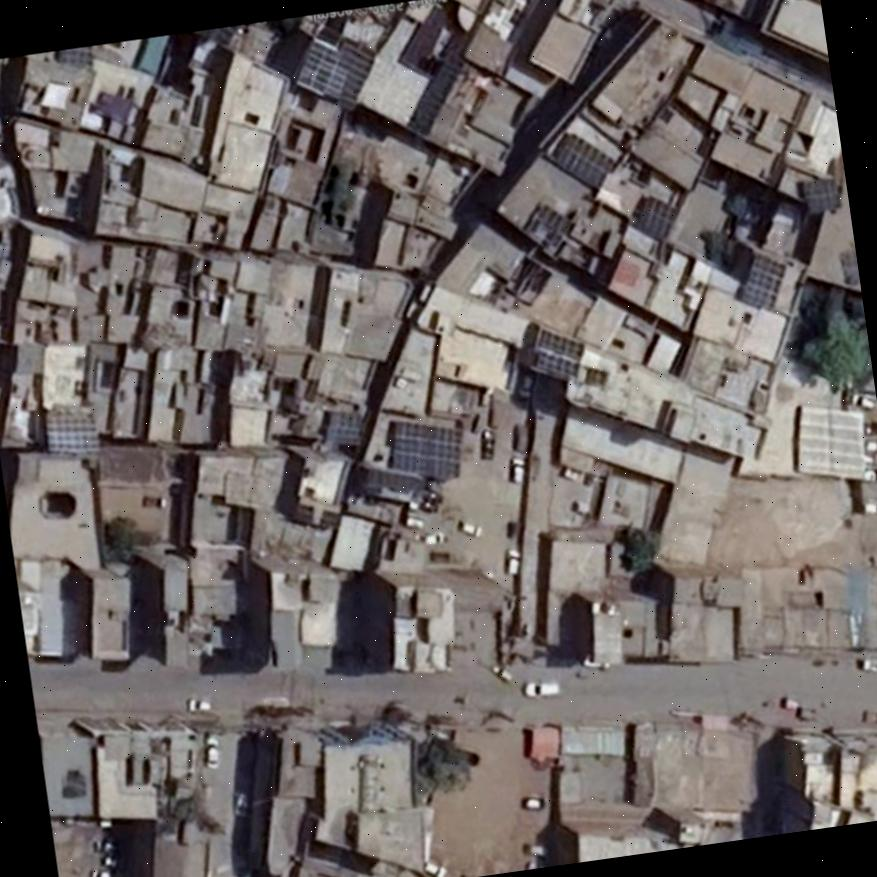Solarpanel: (297, 36, 374, 100), (389, 420, 459, 477), (550, 132, 614, 189), (533, 323, 584, 379), (739, 252, 786, 311), (45, 411, 101, 452), (636, 194, 676, 237), (799, 176, 837, 212), (322, 414, 360, 444)
